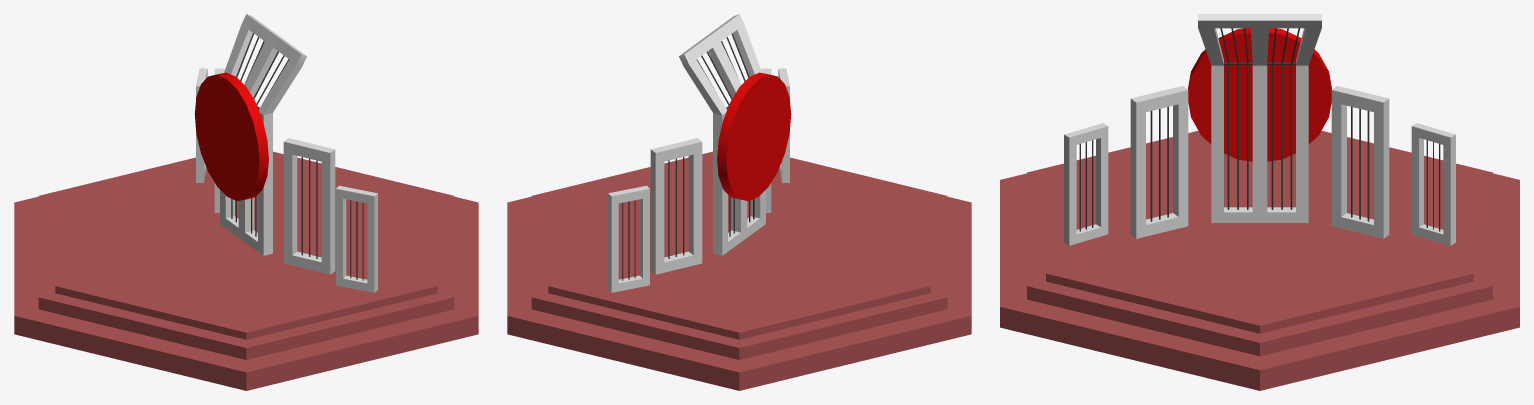
Rendered from Shaheed Minar 1.fbx.
The picture shows the model from 3 angles, left to right: view 1: azimuth 30°, elevation 25°; view 2: azimuth 150°, elevation 25°; view 3: azimuth 270°, elevation 25°; orthographic projection. The views are drawn at different scales.
Parts seen in each view (by area): view 1: base, pCylinder17, pCube1, pCube3, pCube4, pCube5; view 2: base, pCylinder17, pCube1, pCube2, pCube5, pCube4; view 3: base, pCube1, pCylinder17, pCube2, pCube3, pCube5, pCube4.
Part boxes in pixels (left/top/right/bottom): base: left=14, top=151, right=478, bottom=390; pCylinder17: left=194, top=72, right=268, bottom=200; pCube1: left=220, top=14, right=306, bottom=255; pCube3: left=283, top=138, right=335, bottom=274; pCube4: left=336, top=185, right=377, bottom=292; pCube5: left=196, top=68, right=207, bottom=183; base: left=507, top=151, right=971, bottom=390; pCylinder17: left=717, top=72, right=791, bottom=200; pCube1: left=679, top=14, right=765, bottom=255; pCube2: left=650, top=138, right=702, bottom=274; pCube5: left=608, top=185, right=649, bottom=292; pCube4: left=778, top=68, right=789, bottom=183; base: left=1000, top=130, right=1519, bottom=390; pCube1: left=1198, top=14, right=1321, bottom=222; pCylinder17: left=1188, top=28, right=1331, bottom=161; pCube2: left=1331, top=86, right=1389, bottom=238; pCube3: left=1130, top=86, right=1188, bottom=238; pCube5: left=1411, top=123, right=1455, bottom=245; pCube4: left=1064, top=123, right=1108, bottom=245.
Bounding box in the file's own units: 50.05 × 24.39 × 43.34.
